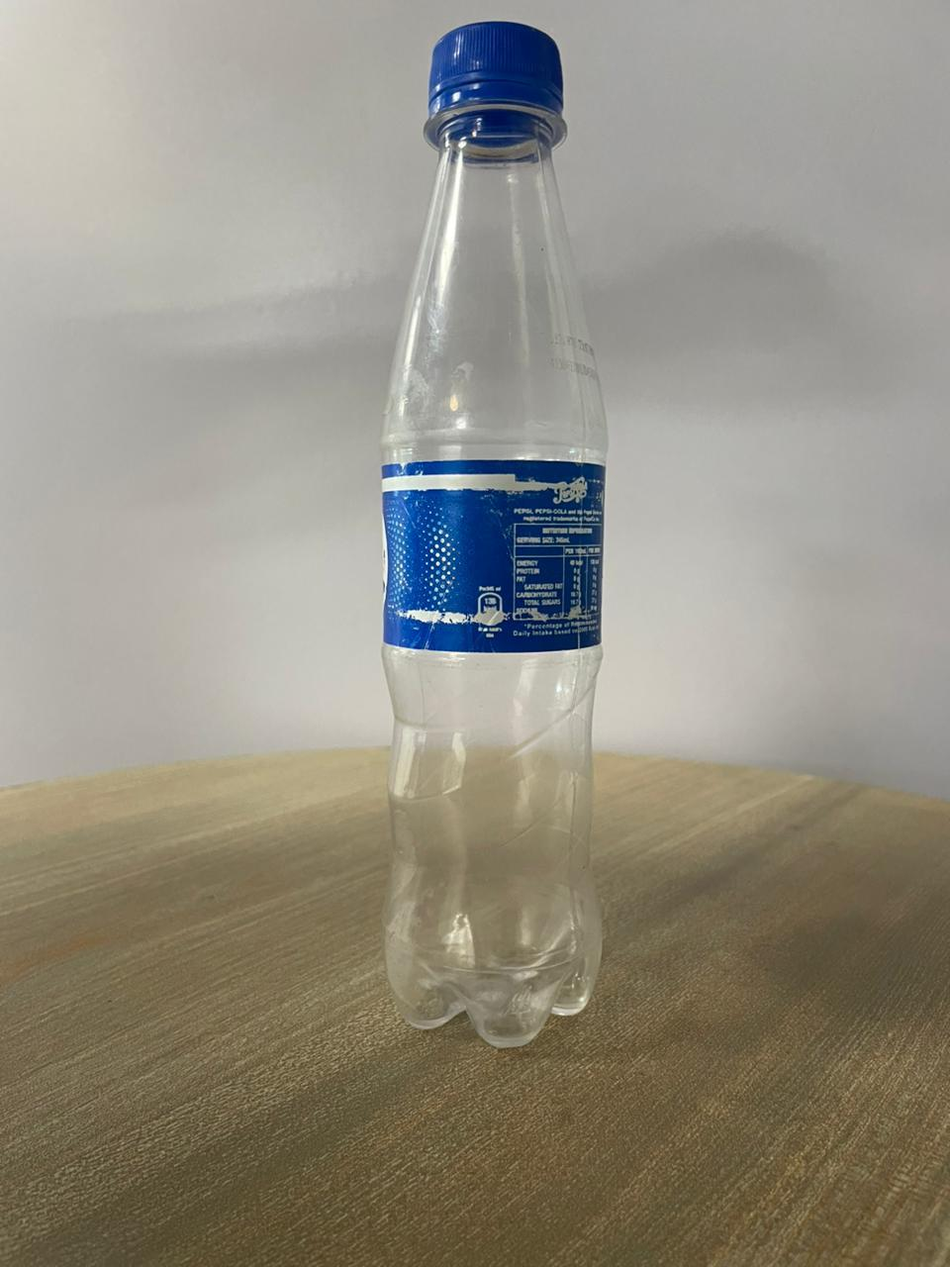Pepsi Bottle: (366, 0, 625, 1055), (366, 8, 623, 1057)
